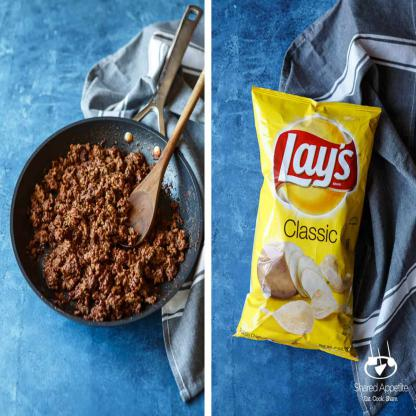potatochip: (231, 83, 385, 365)
